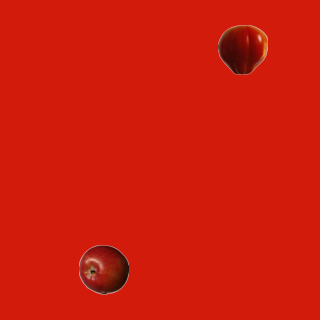Apple Braeburn: (78, 244, 128, 294)
Tomato 1: (217, 24, 267, 74)
